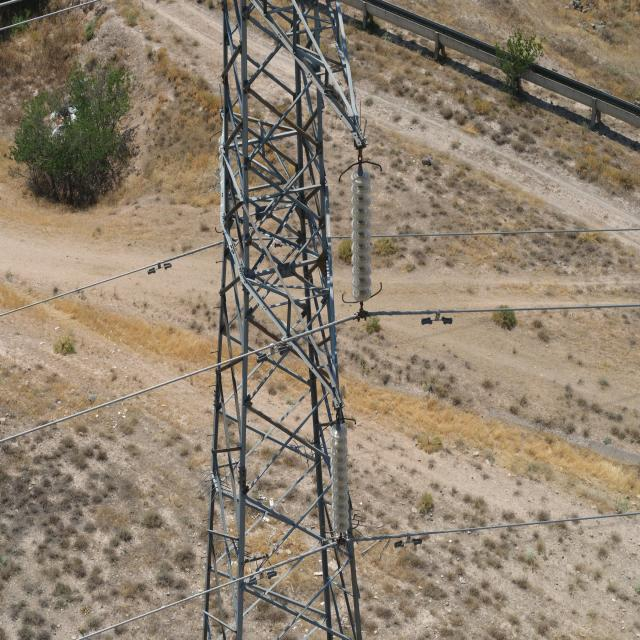voltage_line: (202, 0, 364, 637)
